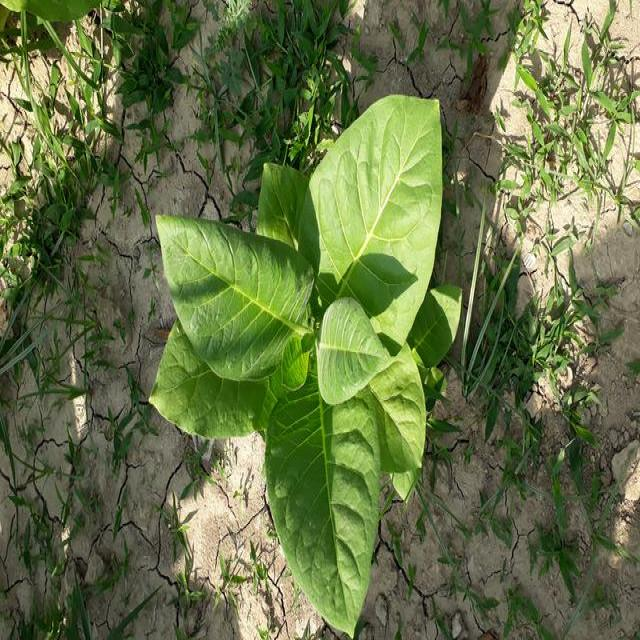crop: (166, 92, 470, 640)
